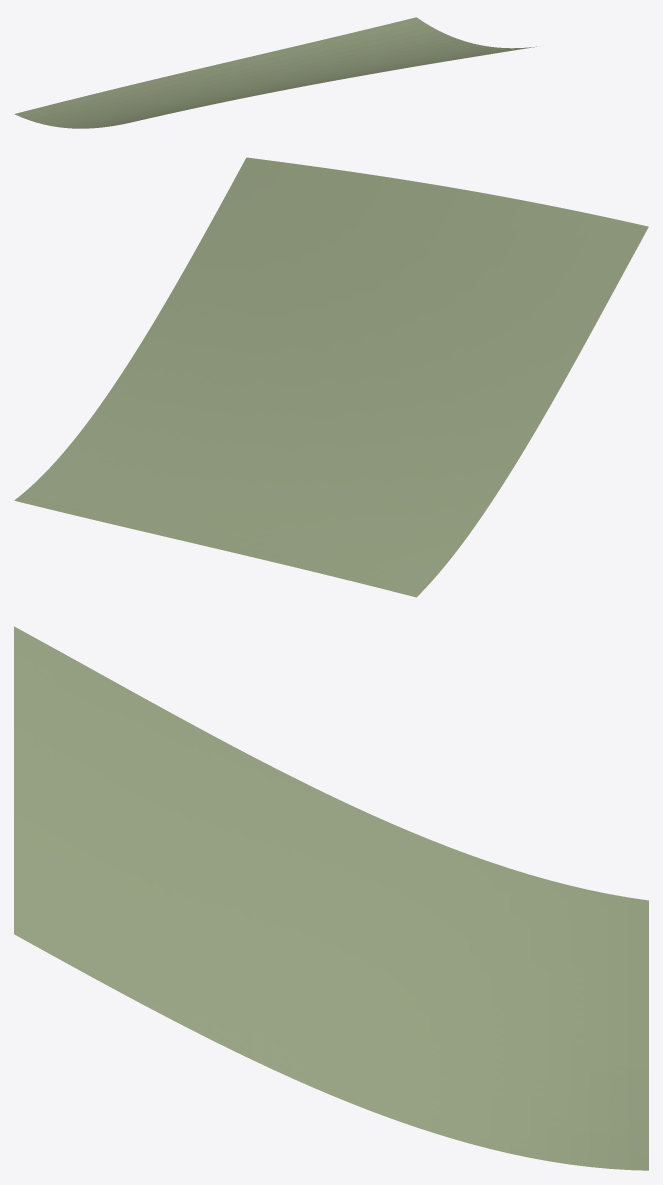
Rendered from expanse-19-1.glb.
The picture shows the model from 3 angles, top to bottom: view 1: azimuth 30°, elevation 25°; view 2: azimuth 150°, elevation 25°; view 3: azimuth 270°, elevation 25°; orthographic projection. The views are drawn at different scales.
Parts seen in each view (by area): view 1: expanse-19-1; view 2: expanse-19-1; view 3: expanse-19-1.
Boxes of the visible parts, bbox=[...] form: expanse-19-1: bbox=[14, 17, 536, 128]; expanse-19-1: bbox=[14, 157, 648, 597]; expanse-19-1: bbox=[14, 626, 648, 1170].
Size of the model in its own units: 256 by 123 by 256.
